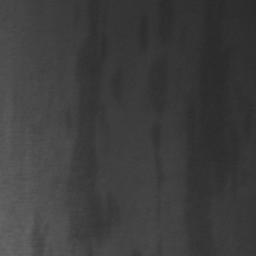Inclusion: (186, 0, 233, 256), (65, 0, 102, 248), (146, 54, 170, 113)
